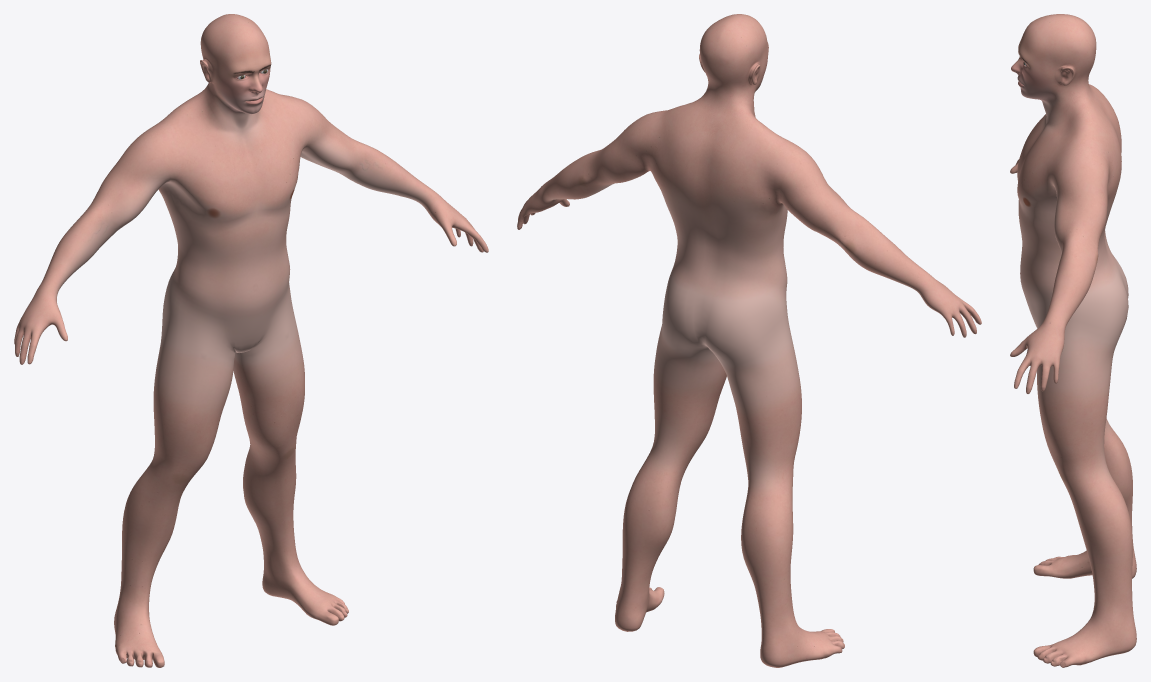
3 views of the same model, side by side, from view 1: azimuth 30°, elevation 25°; view 2: azimuth 150°, elevation 25°; view 3: azimuth 270°, elevation 25° (orthographic). The views are drawn at different scales.
Visible parts, largest first — view 1: LoRes_Game_Mesh; view 2: LoRes_Game_Mesh; view 3: LoRes_Game_Mesh.
Boxes of the visible parts, bbox=[...] form: LoRes_Game_Mesh: bbox=[14, 14, 488, 667]; LoRes_Game_Mesh: bbox=[517, 14, 981, 667]; LoRes_Game_Mesh: bbox=[1010, 14, 1136, 667].
Bounding box in the file's own units: 114 × 146 × 27.96.
